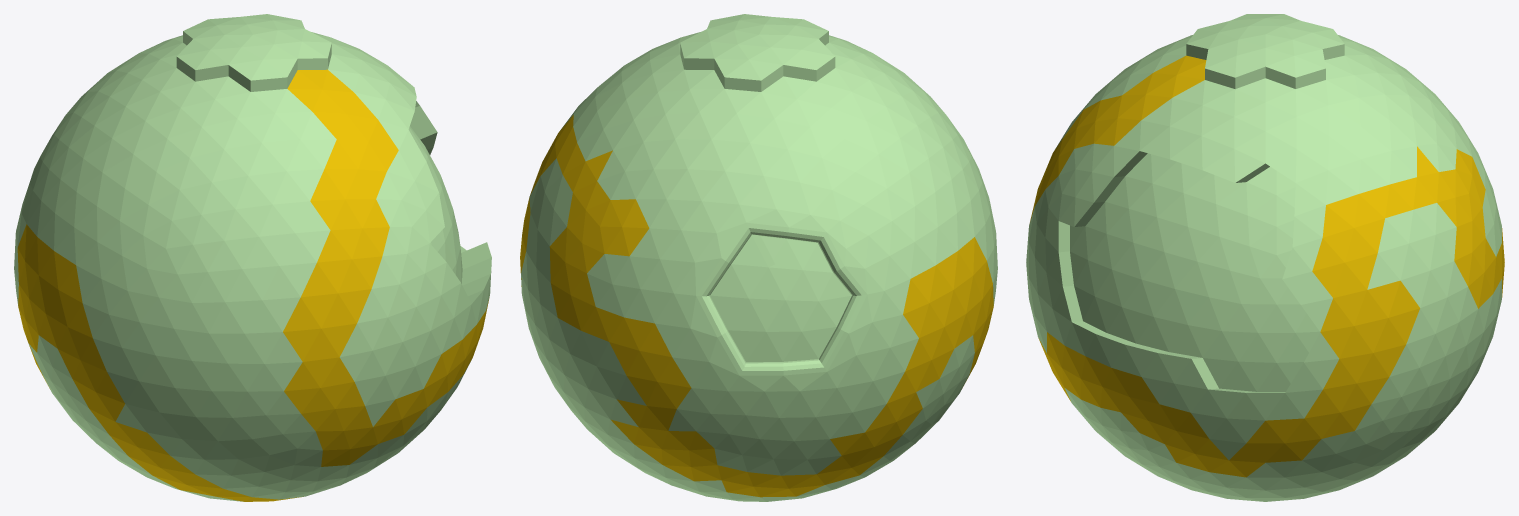
File: WorldT1.fbx
The picture shows the model from 3 angles, left to right: view 1: azimuth 30°, elevation 25°; view 2: azimuth 150°, elevation 25°; view 3: azimuth 270°, elevation 25°; orthographic projection.
Parts seen in each view (by area): view 1: Icosphere; view 2: Icosphere; view 3: Icosphere.
Boxes of the visible parts, box(x1,y1,x2,y2) form: Icosphere: box(14, 14, 491, 501); Icosphere: box(520, 14, 997, 501); Icosphere: box(1026, 14, 1504, 501).
Size of the model in its own units: 2583 by 2669 by 2600.
